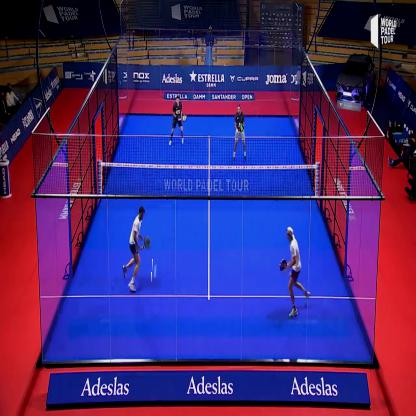ball: (152, 259, 159, 283)
